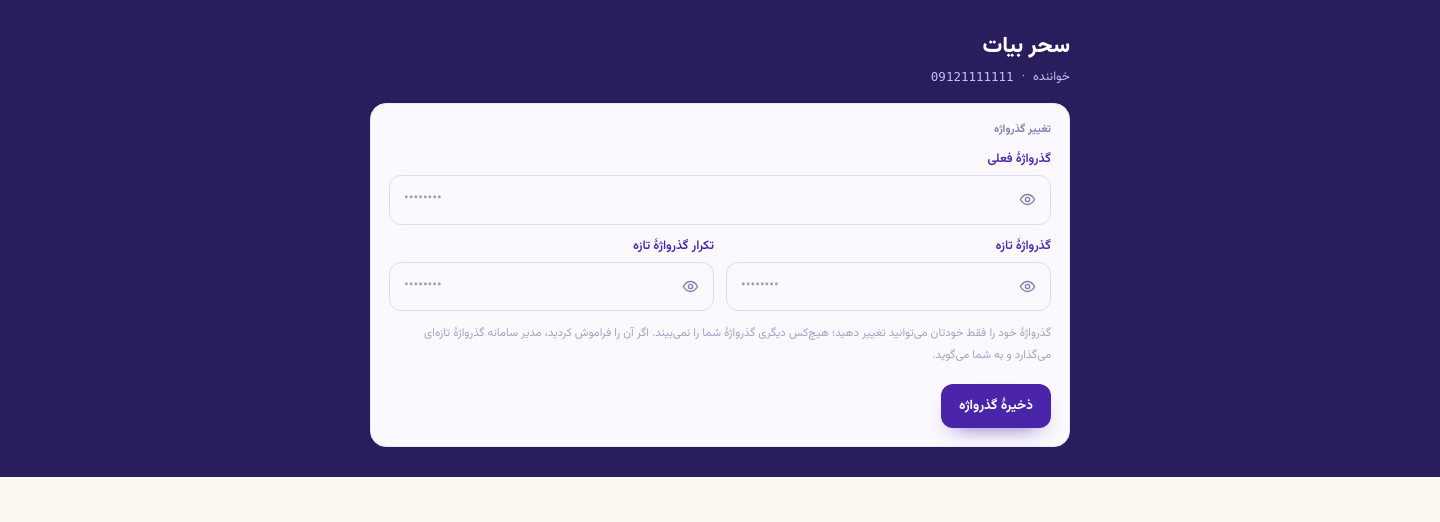
Scenario: changing your own password › asks for the current password before it sends anything
Type "newpass-zzz" into the password field labelled "گذرواژهٔ تازه". click: (888, 286)
box: [726,262,1051,311]
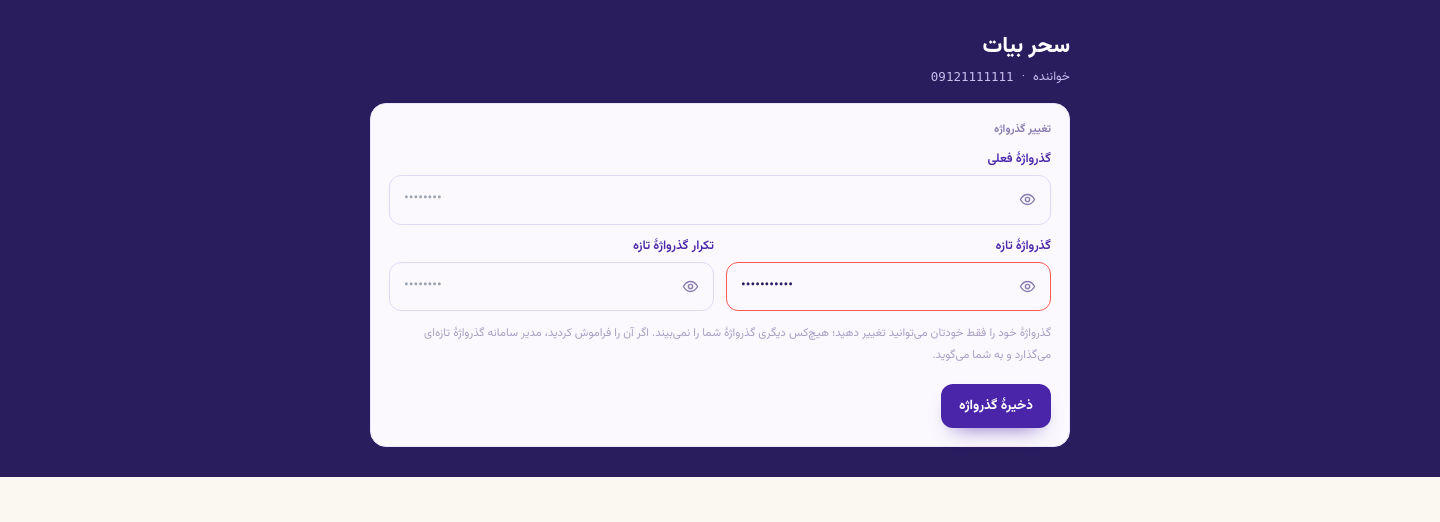
Type "newpass-zzz" into the password field labelled "تکرار گذرواژهٔ تازه". click: (552, 286)
box: [389,262,714,311]
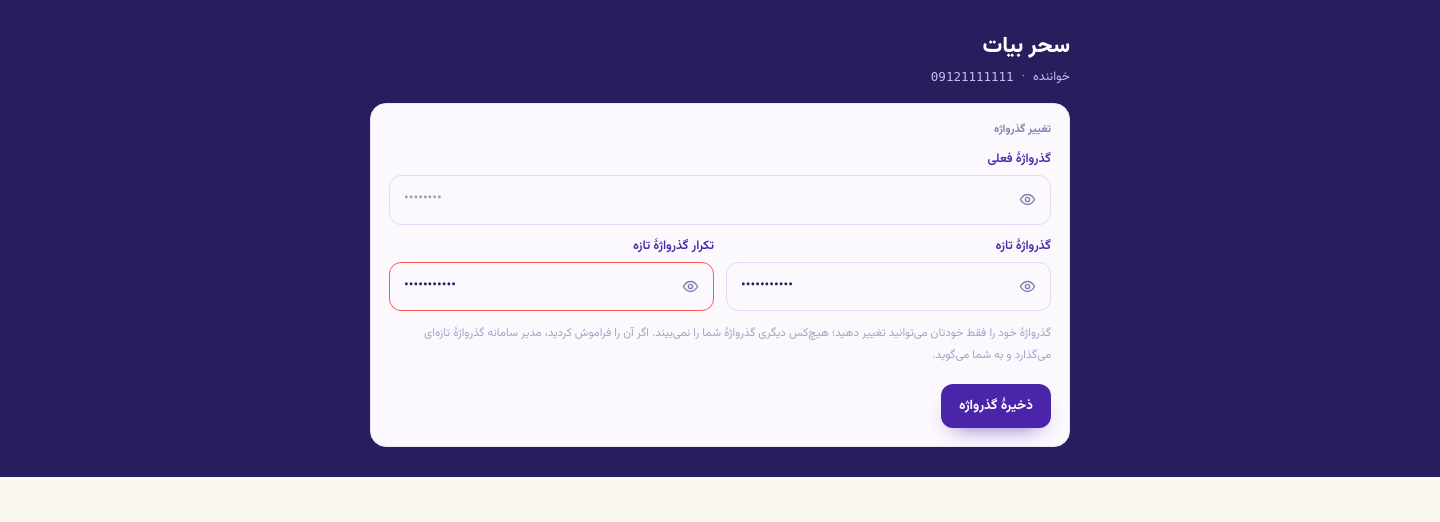
Click the button "ذخیرهٔ گذرواژه". click: (996, 406)
box: [941,384,1051,428]
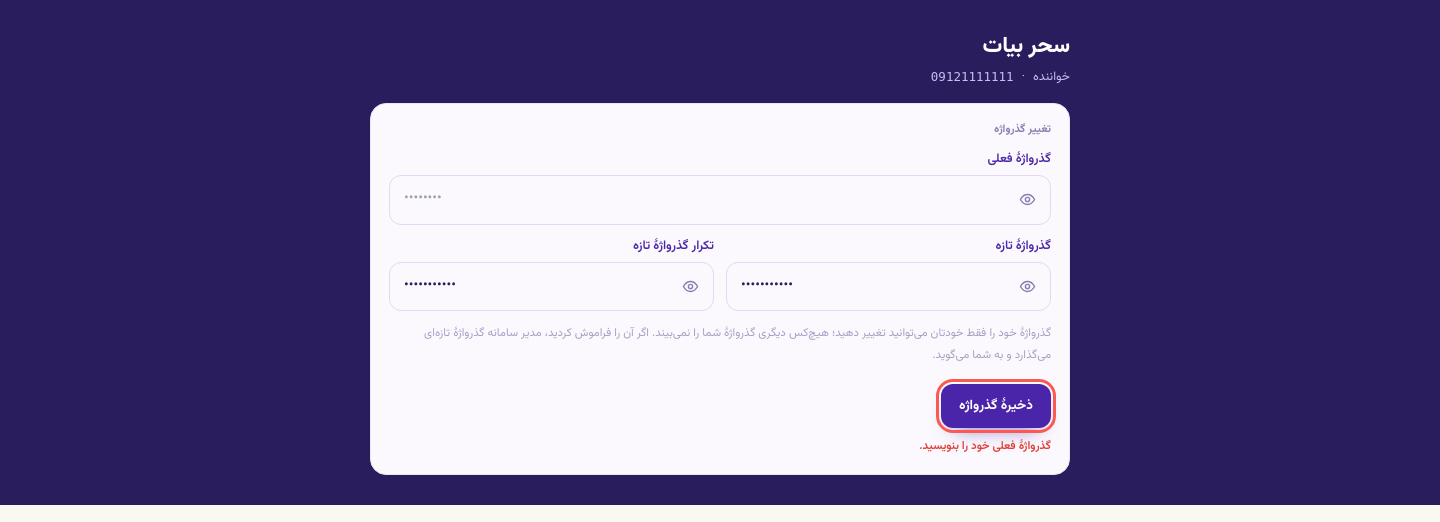
Check: the message shows "گذرواژهٔ فعلی خود را بنویسید", box [919,437,1051,455]
